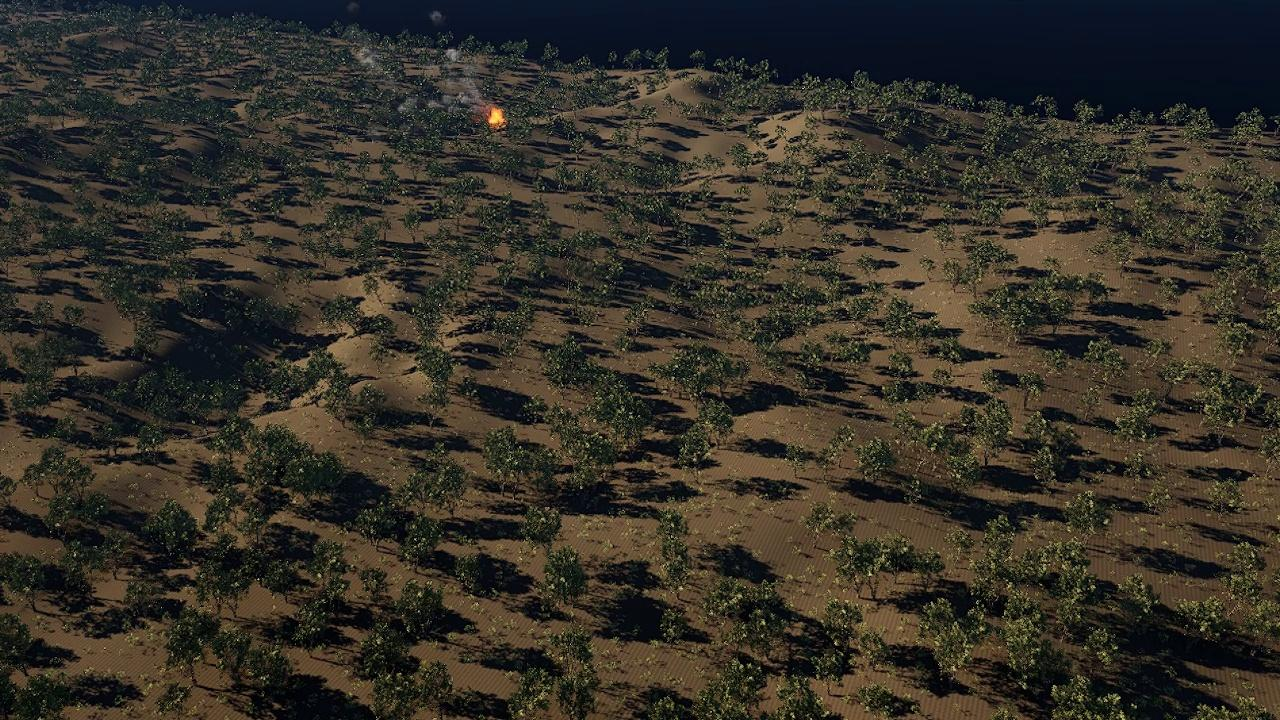fire: (488, 106, 505, 128)
smoke: (341, 2, 496, 117)
